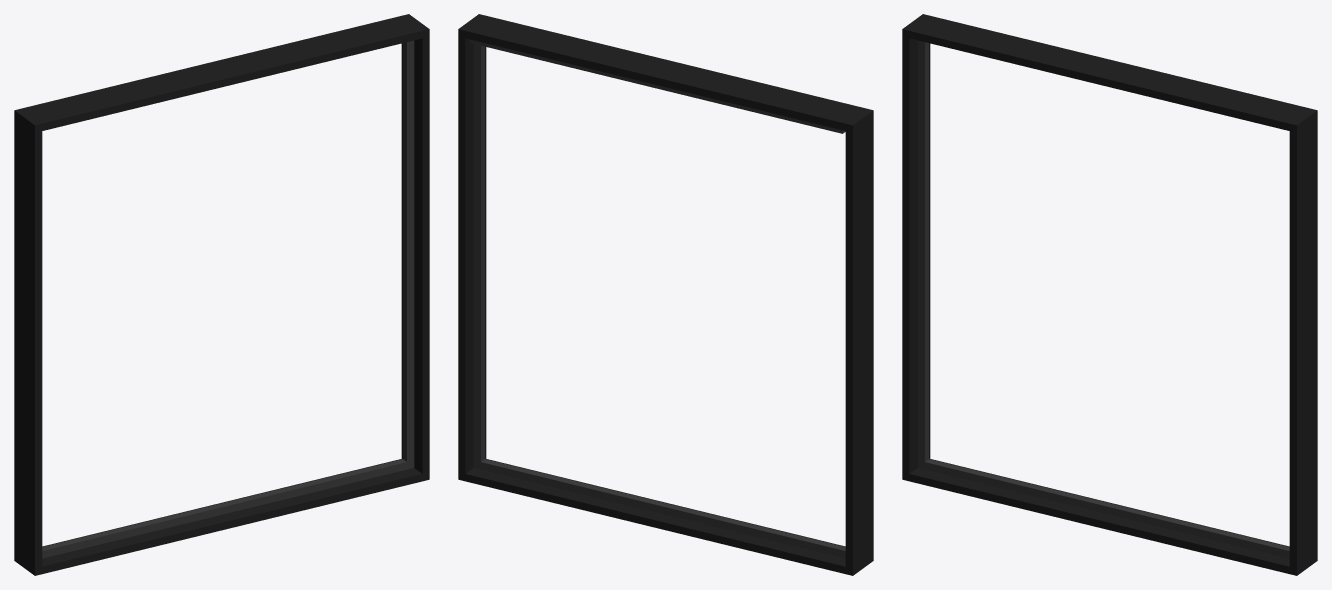
File: FullWindow.obj
3 renders of one model, left to right at view 1: azimuth 30°, elevation 25°; view 2: azimuth 150°, elevation 25°; view 3: azimuth 330°, elevation 25°, orthographic.
Bounding box in the file's own units: 5.5 × 6 × 0.5.
1 material, 1 textured.
